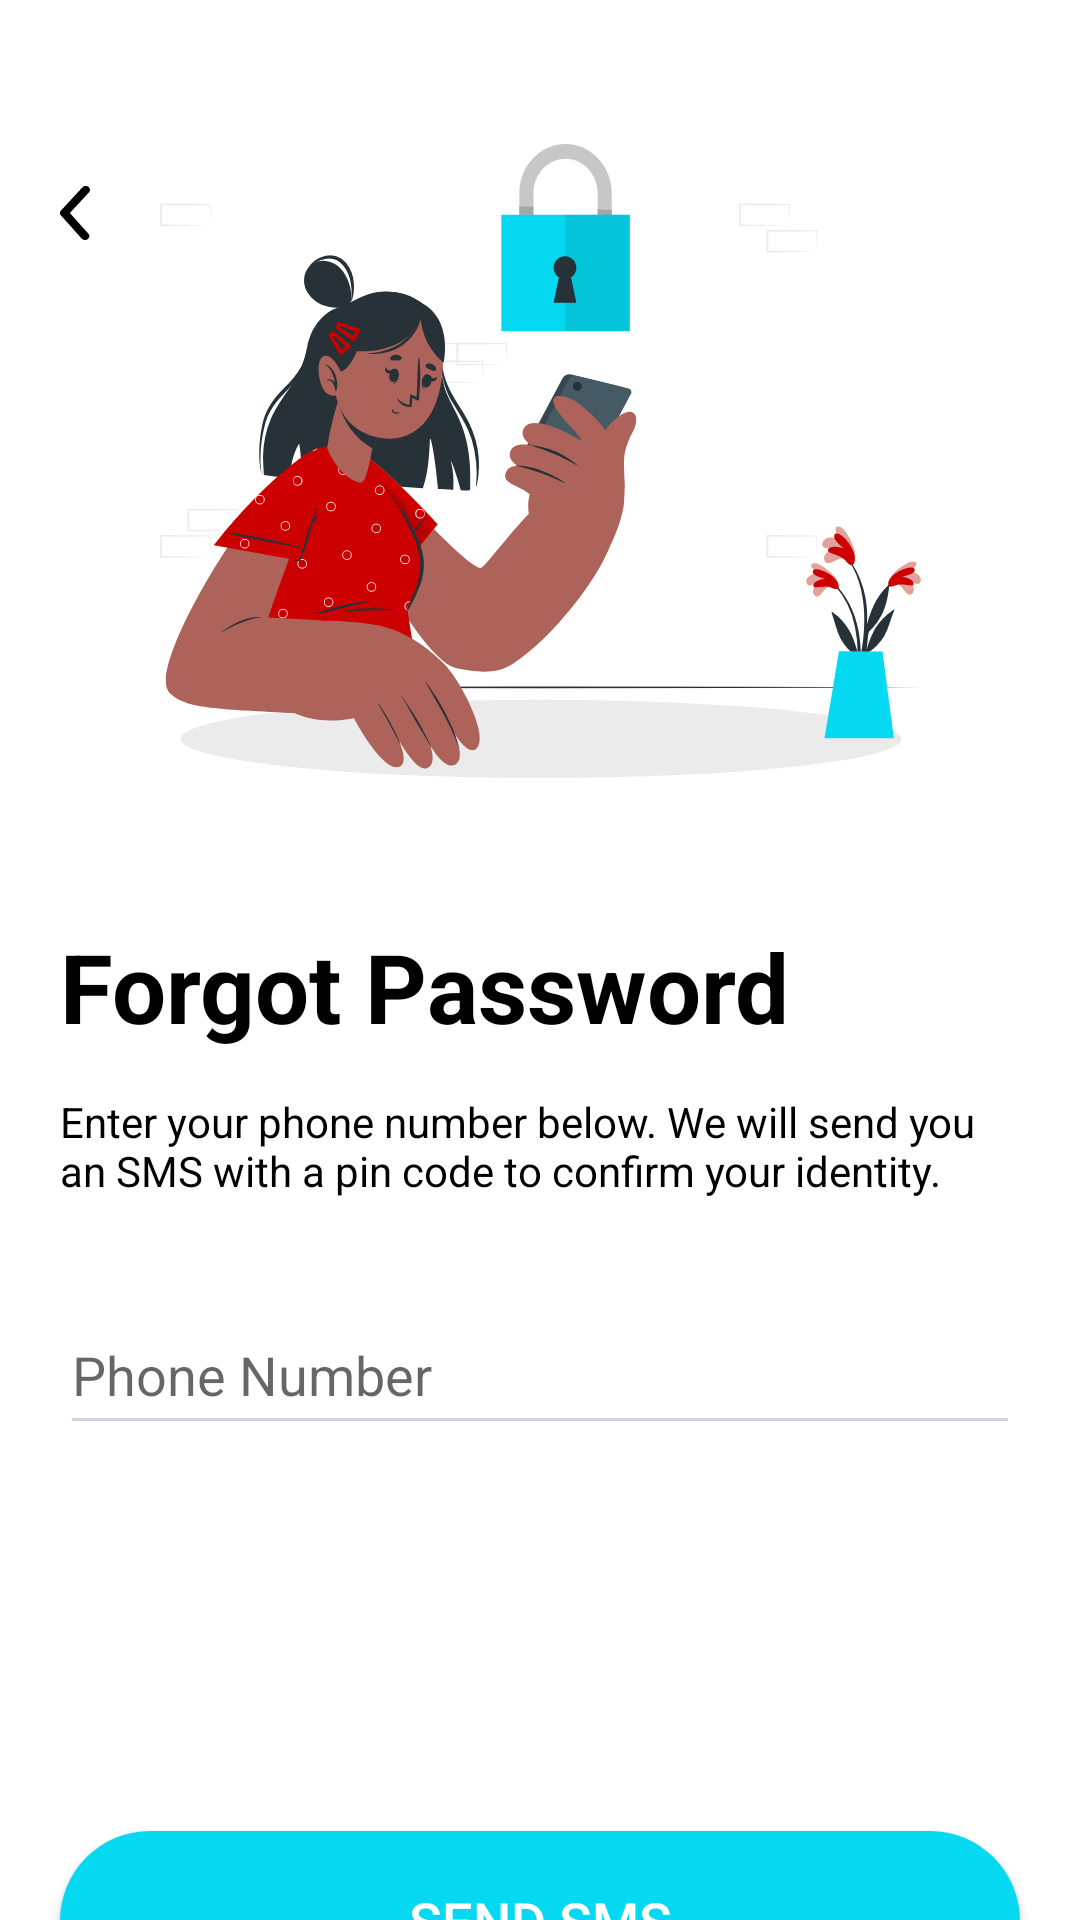

Locate icon controls on the screen. Image size 1080 x 1920, boxes as box(x1, y1, x2, y2).
back: box(60, 186, 90, 240)
